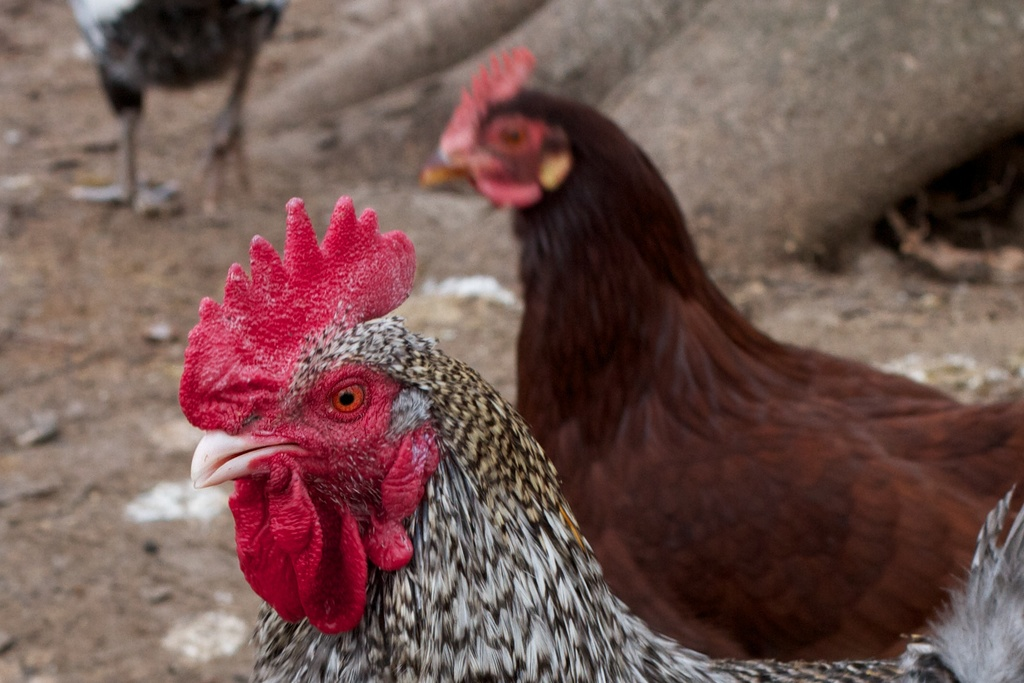chicken: (432, 48, 1023, 679), (97, 186, 633, 683)
